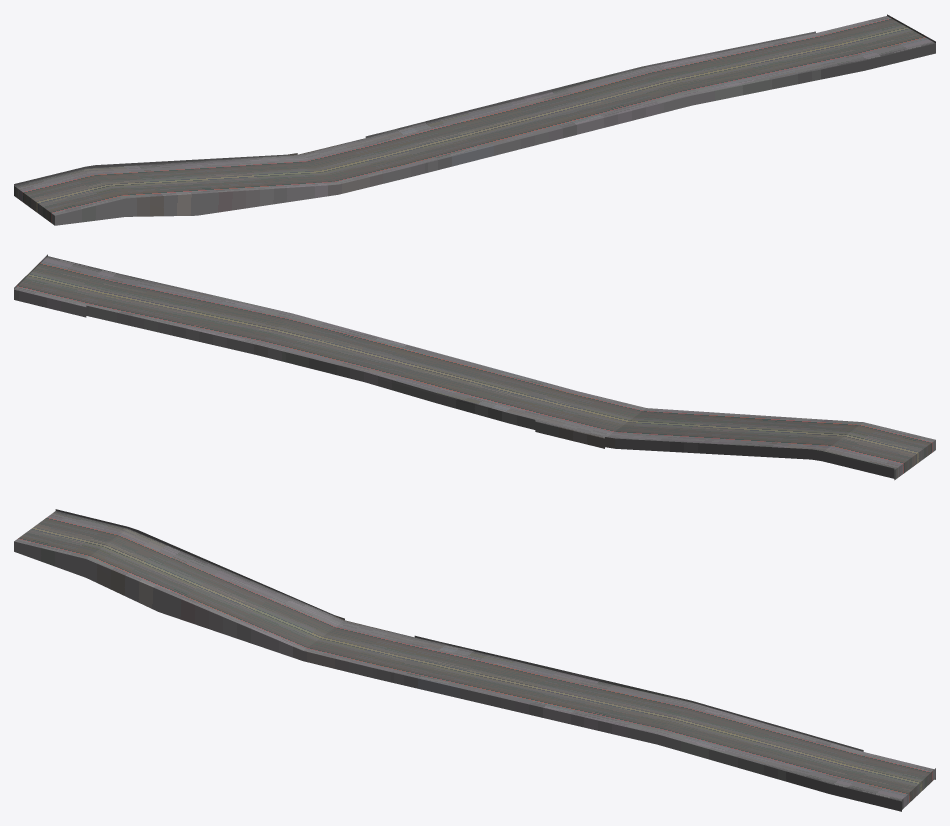
The model's file is lodroads_sfw21.obj.
3 renders of one model, top to bottom at view 1: azimuth 30°, elevation 25°; view 2: azimuth 150°, elevation 25°; view 3: azimuth 330°, elevation 25°, orthographic. The views are drawn at different scales.
Visible parts, largest first — view 1: LODroads_sfw21; view 2: LODroads_sfw21; view 3: LODroads_sfw21.
Part boxes in pixels (bbox=[...]): LODroads_sfw21: bbox=[14, 14, 935, 225]; LODroads_sfw21: bbox=[14, 254, 935, 480]; LODroads_sfw21: bbox=[14, 509, 935, 811].
Size of the model in its own units: 247 by 13.5 by 22.58.
Materials: 1 (1 with a texture image).
